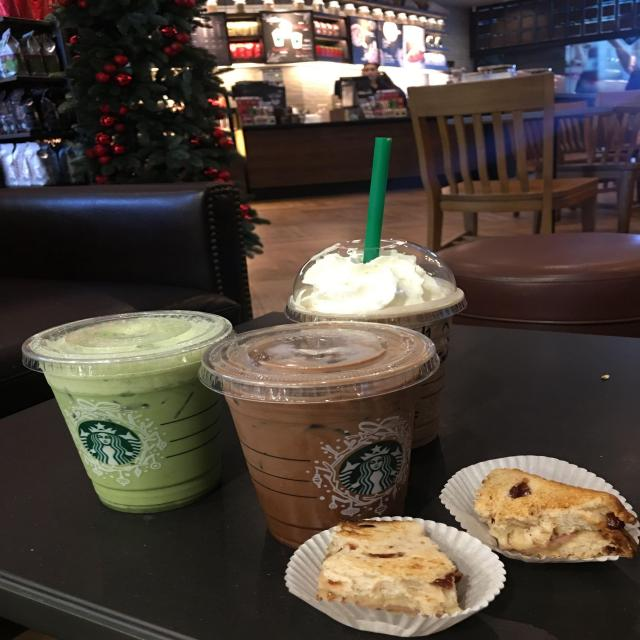cup-disposable: (199, 320, 441, 548), (20, 307, 234, 514), (283, 240, 468, 460)
